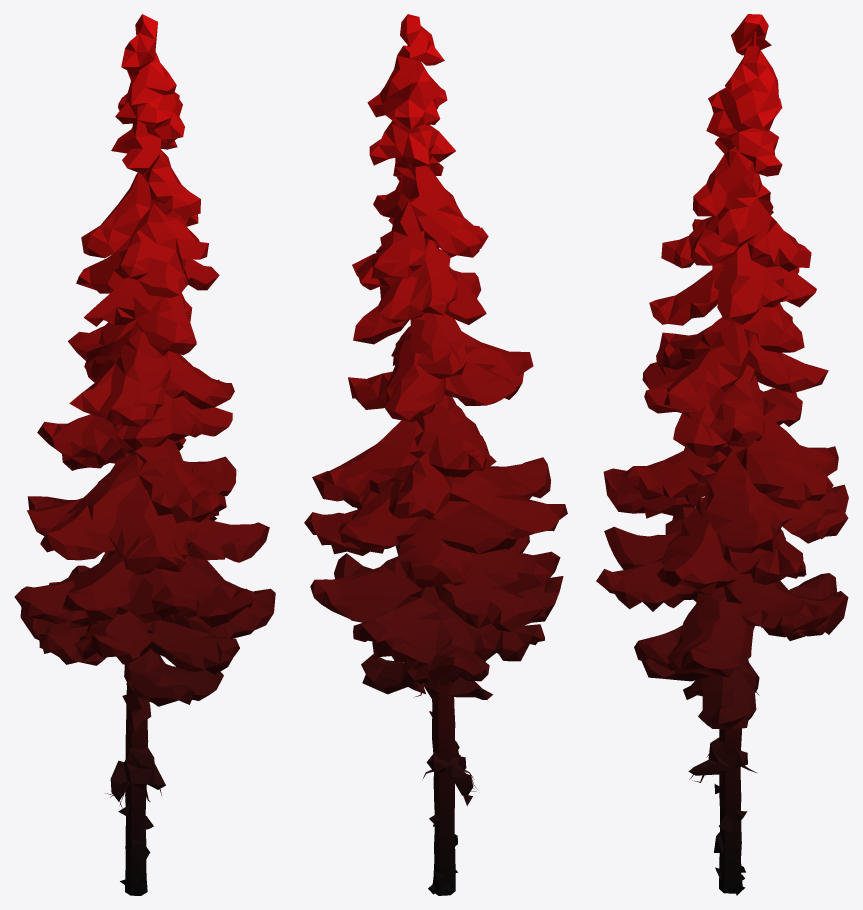
Rendered from TreeSpruceTall04_Snow.fbx.
3 renders of one model, left to right at view 1: azimuth 30°, elevation 25°; view 2: azimuth 150°, elevation 25°; view 3: azimuth 270°, elevation 25°, orthographic. The views are drawn at different scales.
Parts seen in each view (by area): view 1: TreeSpruceTall04_Snow_LOD0; view 2: TreeSpruceTall04_Snow_LOD0; view 3: TreeSpruceTall04_Snow_LOD0.
Part boxes in pixels (x1,y1,x2,y2): TreeSpruceTall04_Snow_LOD0: [14, 14, 275, 895]; TreeSpruceTall04_Snow_LOD0: [304, 14, 567, 895]; TreeSpruceTall04_Snow_LOD0: [596, 14, 848, 895].
Size of what is drawn, in the model's own units: 398 by 1420 by 366.
